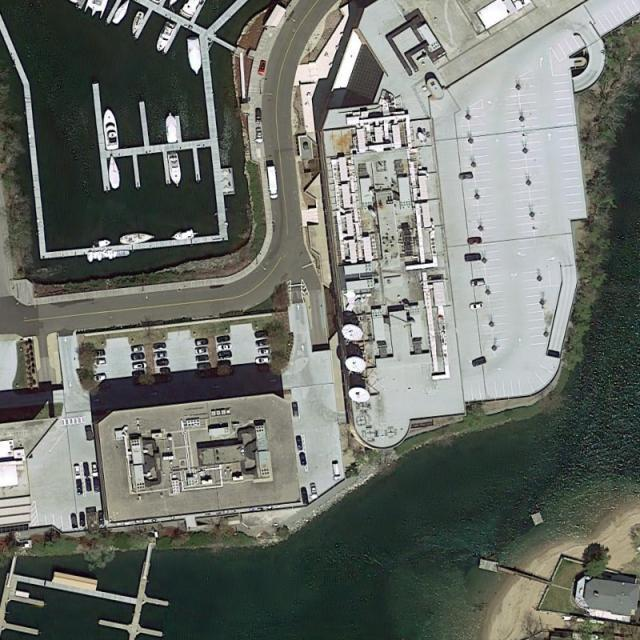vehicle: (264, 166, 280, 199), (256, 58, 269, 75), (473, 355, 489, 368), (130, 360, 146, 372), (254, 106, 264, 125), (254, 338, 271, 349), (254, 329, 272, 339), (470, 277, 485, 289), (130, 351, 146, 362), (331, 459, 339, 481), (255, 127, 265, 144), (90, 349, 107, 359), (467, 236, 484, 246), (465, 253, 483, 262), (85, 424, 94, 442), (218, 350, 234, 360), (301, 488, 309, 508), (458, 171, 474, 181), (70, 513, 79, 530), (254, 356, 270, 365), (85, 477, 94, 493), (131, 343, 144, 354), (195, 337, 209, 347), (196, 354, 210, 364), (92, 357, 107, 366), (75, 479, 83, 495), (218, 333, 232, 342), (195, 347, 210, 355), (218, 343, 233, 351), (98, 511, 106, 526), (470, 302, 485, 310), (155, 350, 168, 359), (299, 453, 308, 466), (93, 374, 107, 382), (293, 402, 300, 418), (296, 436, 304, 450), (94, 477, 101, 493), (83, 462, 91, 476), (75, 463, 82, 479), (79, 511, 85, 528), (258, 347, 272, 354), (154, 343, 168, 350), (310, 481, 317, 494), (92, 462, 99, 474), (158, 361, 170, 367), (634, 600, 640, 609)
